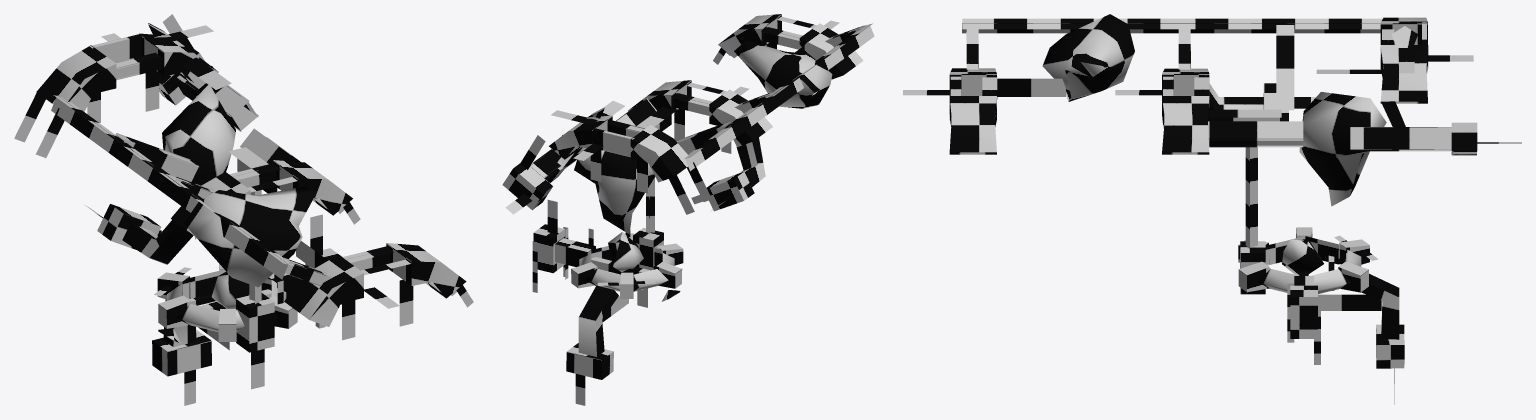
File: asset-mmo-mining-station-a.obj
The picture shows the model from 3 angles, left to right: view 1: azimuth 30°, elevation 25°; view 2: azimuth 150°, elevation 25°; view 3: azimuth 270°, elevation 25°; orthographic projection. The views are drawn at different scales.
Visible parts, largest first — view 1: asset_mmo_miningstation_a; view 2: asset_mmo_miningstation_a; view 3: asset_mmo_miningstation_a.
Part boxes in pixels (bbox=[...]): asset_mmo_miningstation_a: bbox=[14, 14, 473, 405]; asset_mmo_miningstation_a: bbox=[502, 14, 874, 405]; asset_mmo_miningstation_a: bbox=[903, 14, 1521, 404].
Size of the model in its own units: 181 by 257 by 399.
1 material, 1 textured.
